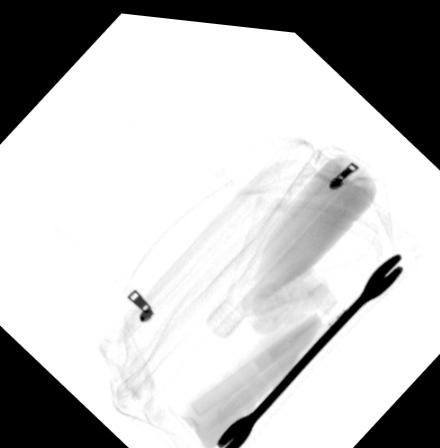Wrench: (216, 241, 407, 448)
